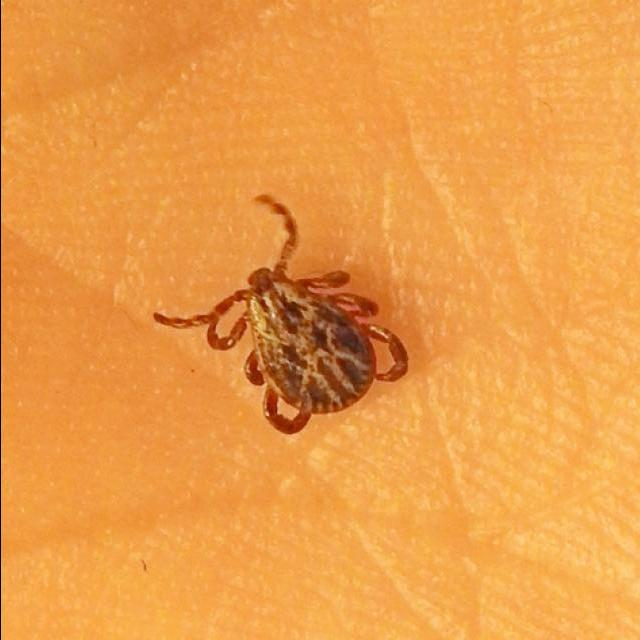Dermacentor Reticulatus-M: (153, 195, 407, 434)
